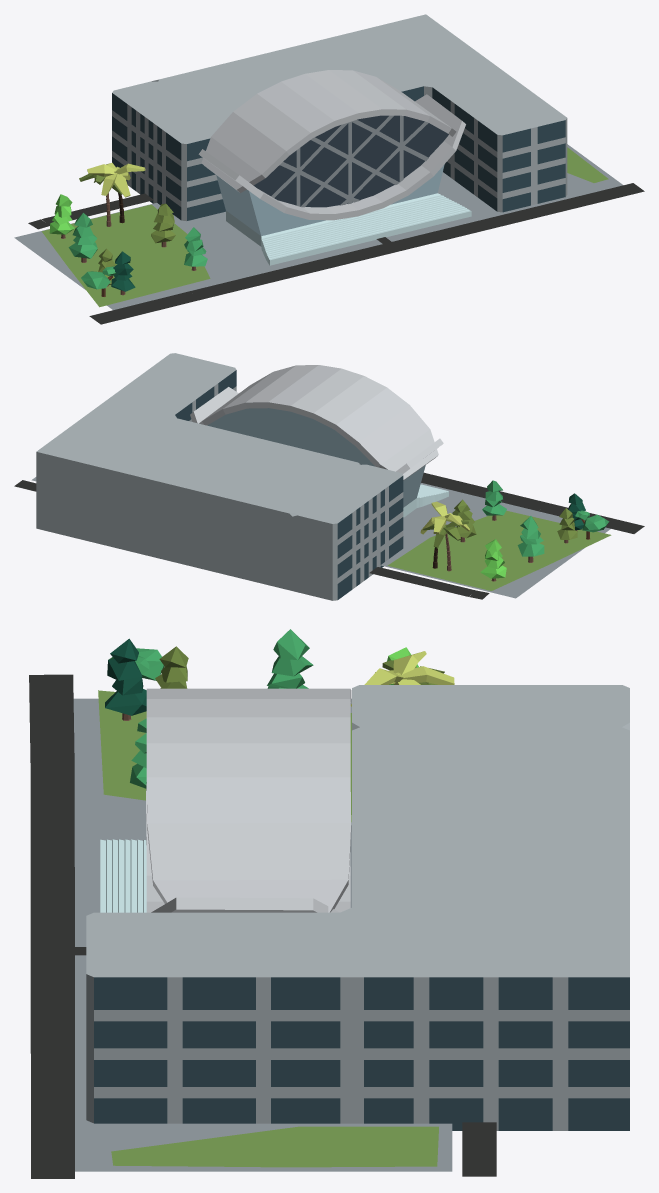
Rendered from PY_Env6.fbx.
3 views of the same model, one above another, from view 1: azimuth 30°, elevation 25°; view 2: azimuth 150°, elevation 25°; view 3: azimuth 270°, elevation 25° (orthographic). The views are drawn at different scales.
Visible parts, largest first — view 1: PY_Env6; view 2: PY_Env6; view 3: PY_Env6.
Part boxes in pixels (x1,y1,x2,y2): PY_Env6: (14, 14, 644, 324); PY_Env6: (14, 353, 644, 600); PY_Env6: (29, 629, 629, 1178).
Size of the model in its own units: 8528 by 1840 by 4295.
